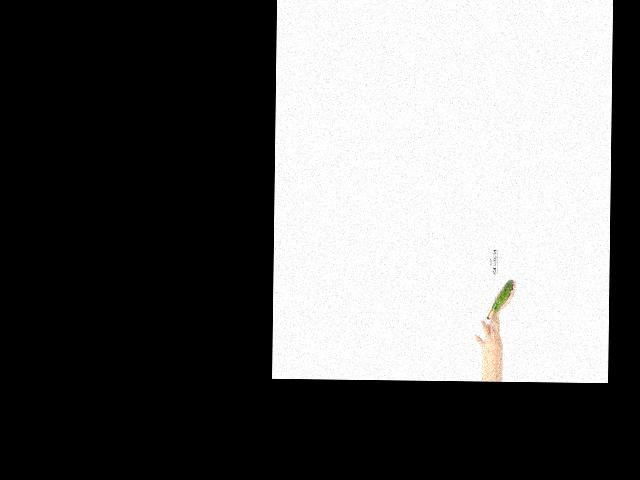cucumber: (491, 279, 513, 313)
